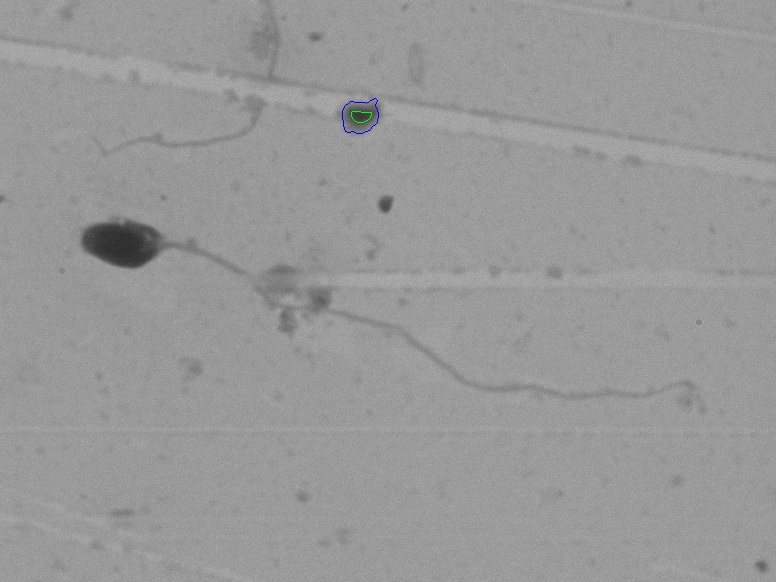Abnormal: (81, 203, 707, 463)
